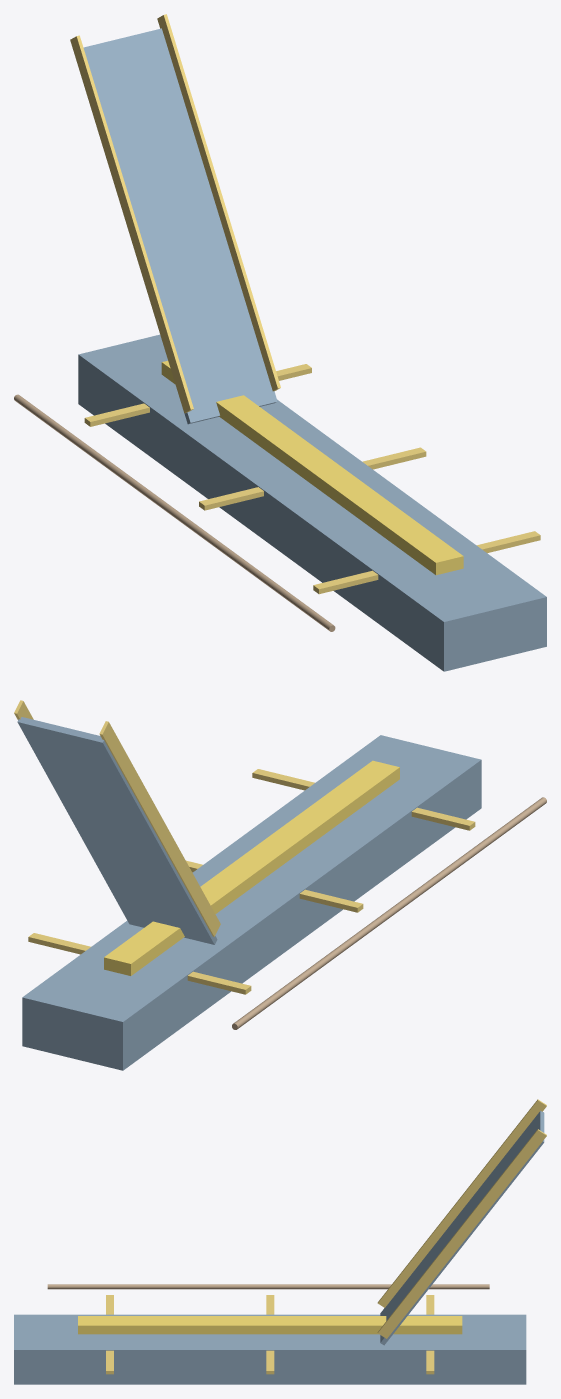
File: catwalkmachine.glb
3 renders of one model, top to bottom at view 1: azimuth 30°, elevation 25°; view 2: azimuth 150°, elevation 25°; view 3: azimuth 270°, elevation 25°, orthographic. The views are drawn at different scales.
Size of the model in its own units: 6.39 by 8.7 by 16.64.
